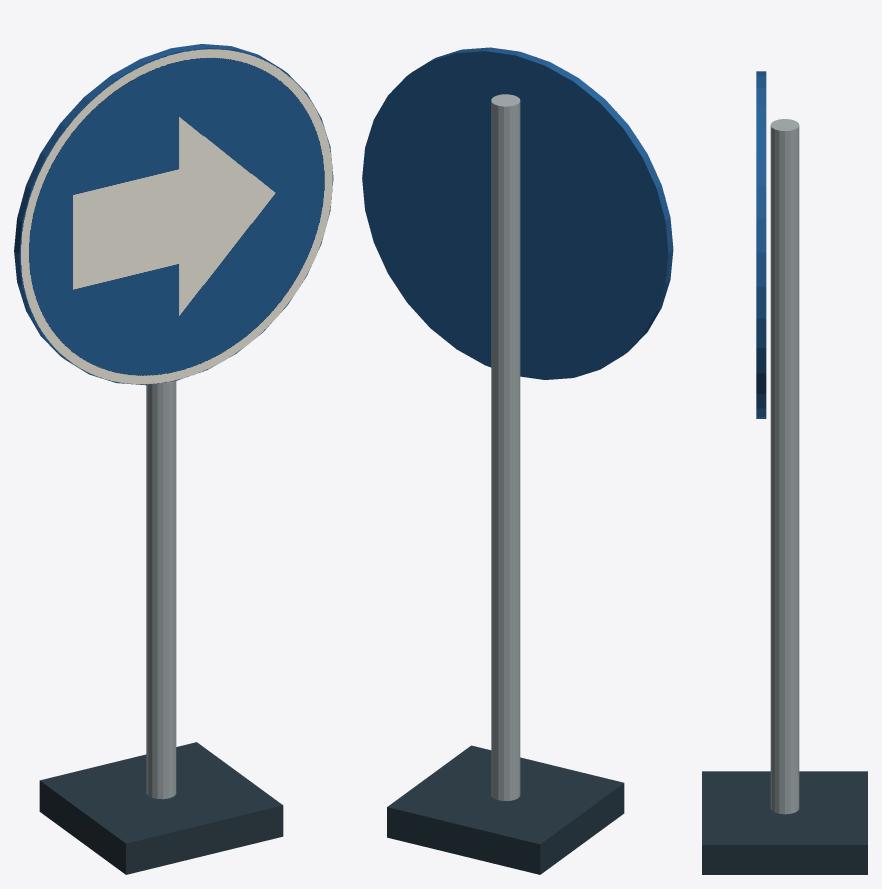
The model's file is scendance-plan-turn-right.glb.
The picture shows the model from 3 angles, left to right: view 1: azimuth 30°, elevation 25°; view 2: azimuth 150°, elevation 25°; view 3: azimuth 270°, elevation 25°; orthographic projection. The views are drawn at different scales.
Size of the model in its own units: 0.84 by 2 by 0.4.
4 materials, 1 textured.
